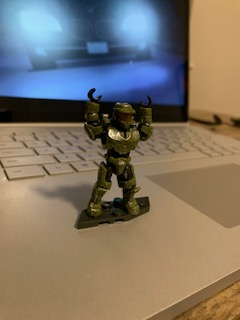chief: (82, 86, 156, 216)
spartan: (80, 84, 154, 214)
up: (83, 86, 155, 157)
